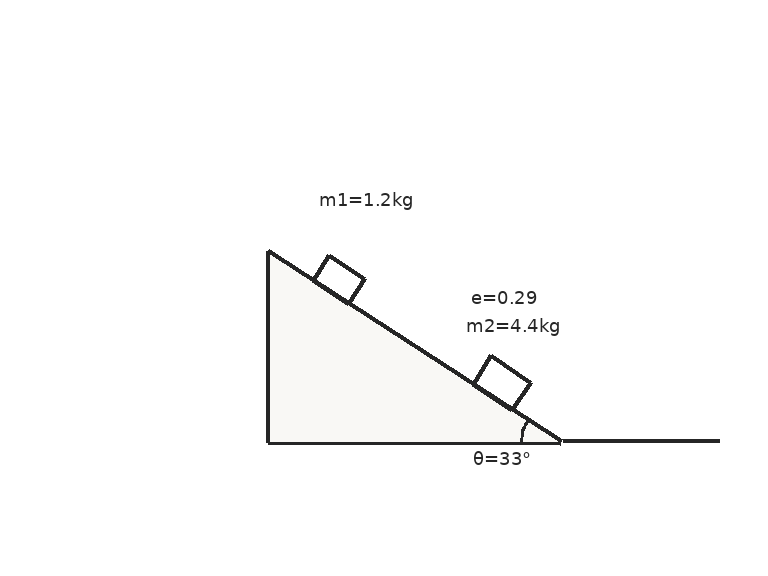block: (471, 354, 532, 412), (311, 253, 366, 305)
ramp: (265, 249, 563, 444)
